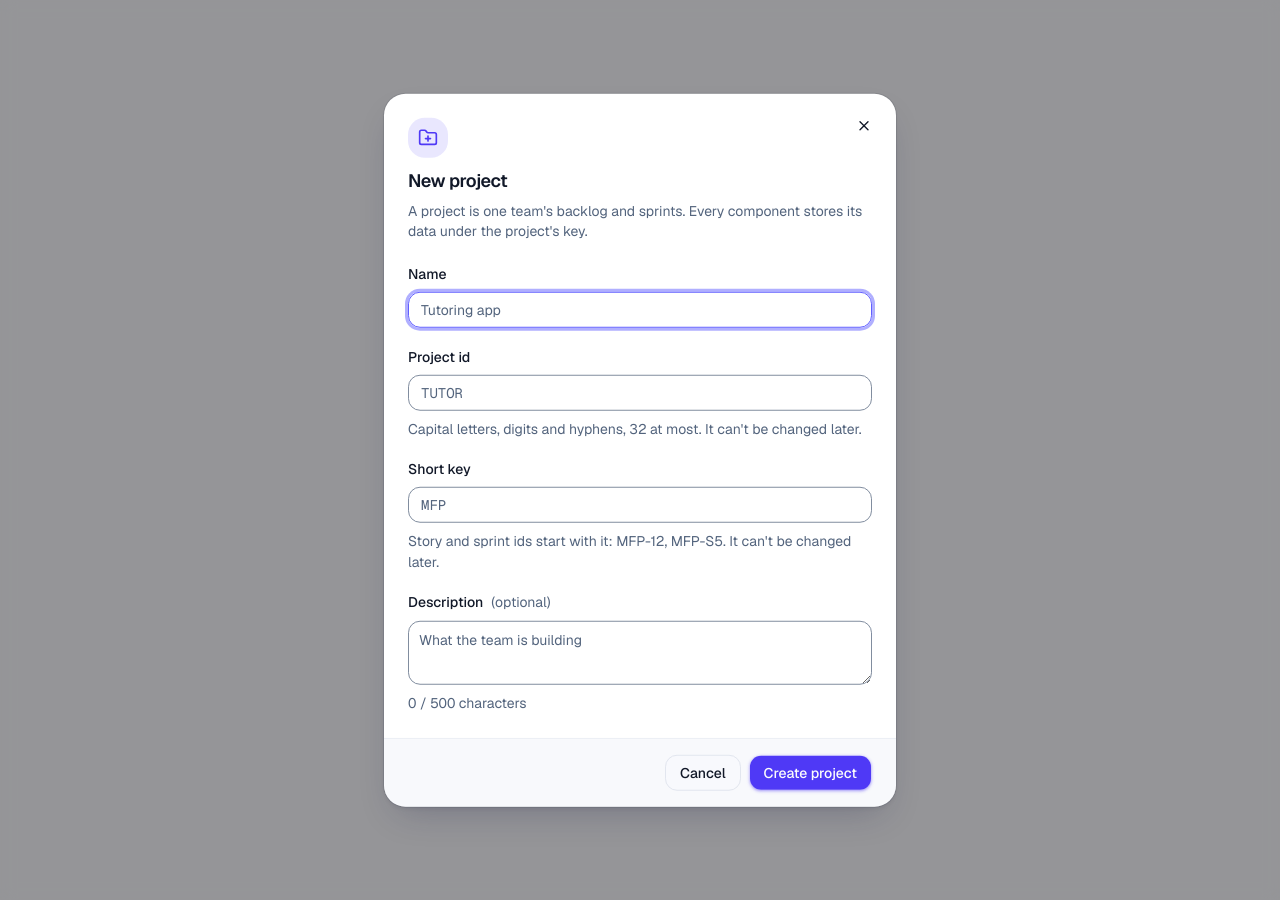
Test: NewProjectDialog › says so when the gateway cannot be reached
This screenshot has width=1280, height=900.
Type "Tutor" into the field labelled "Name".
click(640, 310); type("Tutor")  # box [408,292,872,328]
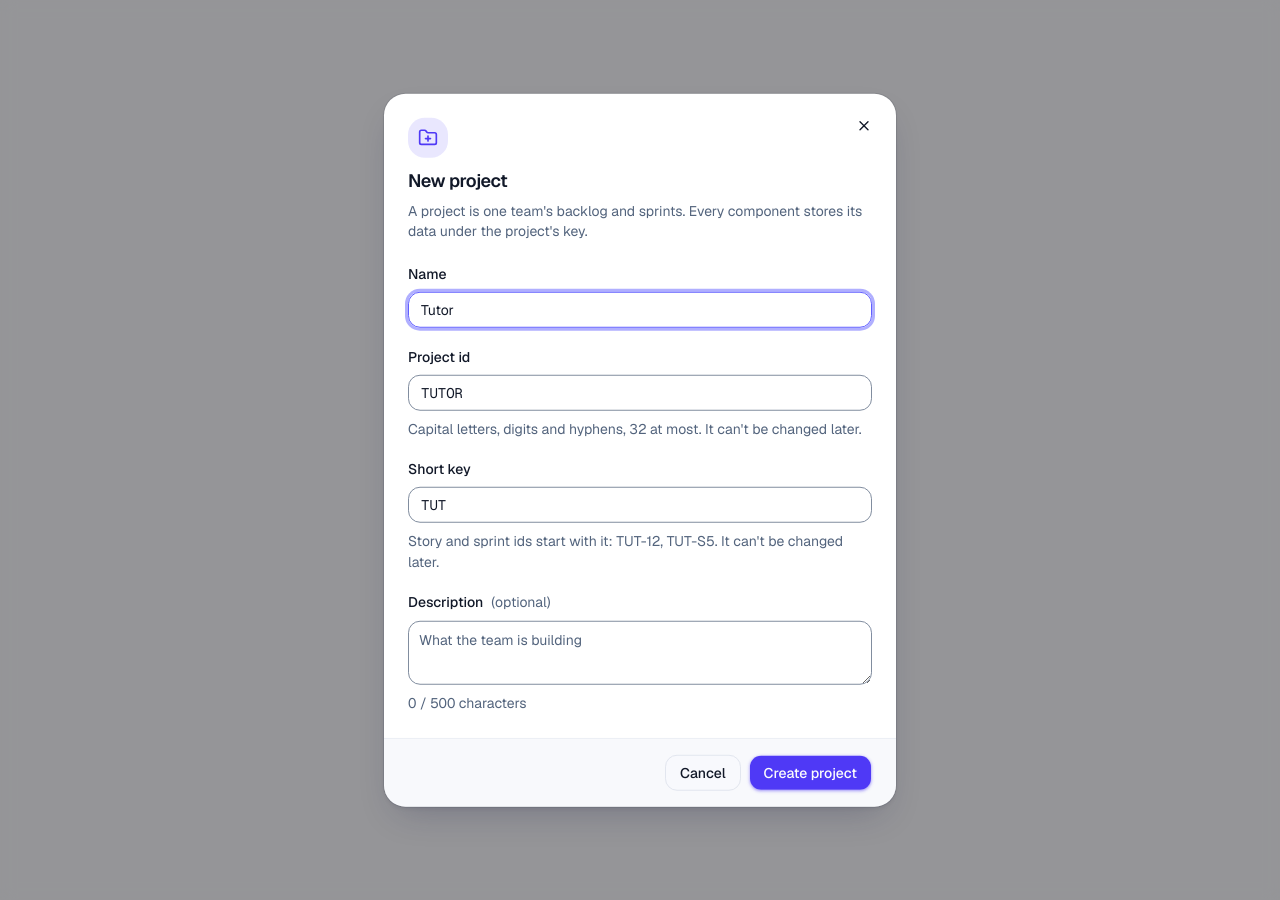
Click the button "Create project".
click(810, 772)  # box [749,754,872,790]
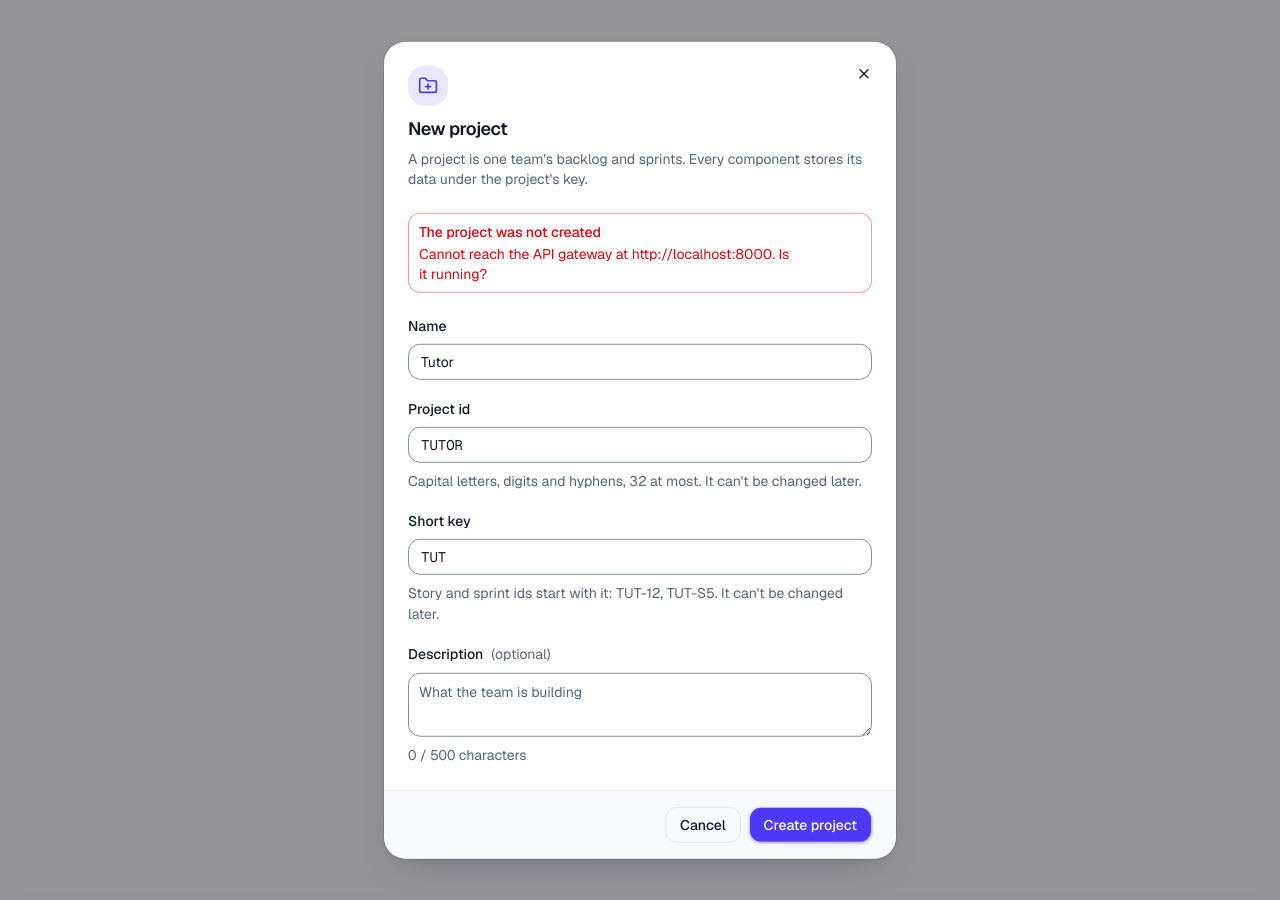
expect the text "The project was not created" is shown: met, box [419,222,601,240]
expect the text "Cannot reach the API gateway" is shown: met, box [419,244,789,282]
